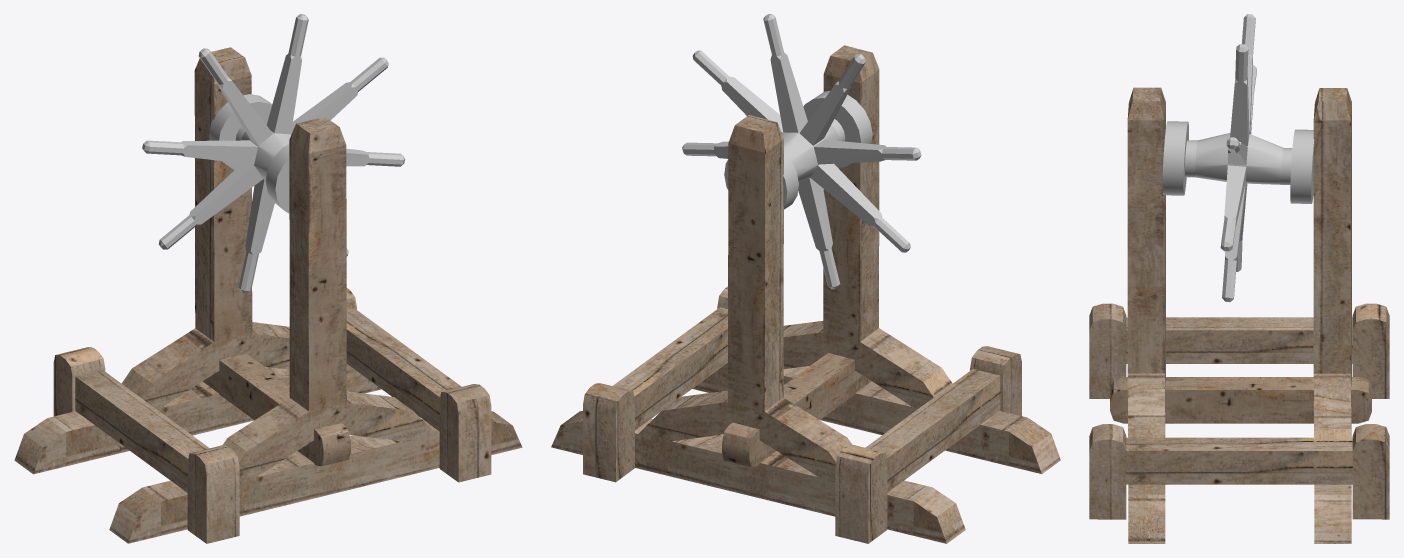
Rendered from drawBridgeLeverAnimated.FBX.
3 views of the same model, side by side, from view 1: azimuth 30°, elevation 25°; view 2: azimuth 150°, elevation 25°; view 3: azimuth 270°, elevation 25° (orthographic). The views are drawn at different scales.
Visible parts, largest first — view 1: drawBridgeLever, drawBridgeWheel; view 2: drawBridgeLever, drawBridgeWheel; view 3: drawBridgeLever, drawBridgeWheel.
Part boxes in pixels (x1,y1,x2,y2): drawBridgeLever: [14, 47, 522, 543]; drawBridgeWheel: [142, 14, 405, 293]; drawBridgeLever: [551, 45, 1060, 543]; drawBridgeWheel: [682, 14, 921, 289]; drawBridgeLever: [1089, 87, 1389, 543]; drawBridgeWheel: [1162, 14, 1314, 302].
Size of the model in its own units: 94.49 by 98.49 by 63.58.
